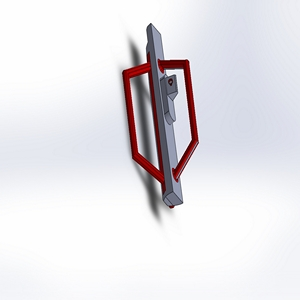submarine: (99, 13, 209, 223)
